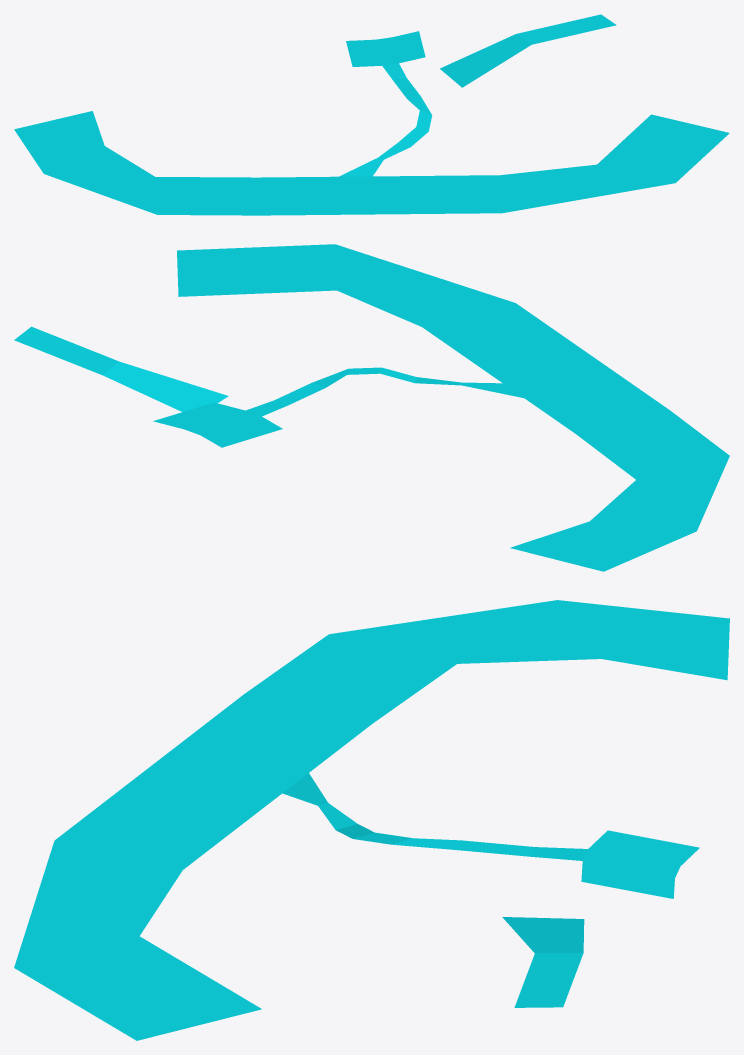
File: WATER_FOREST.fbx
The picture shows the model from 3 angles, top to bottom: view 1: azimuth 30°, elevation 25°; view 2: azimuth 150°, elevation 25°; view 3: azimuth 270°, elevation 25°; orthographic projection. The views are drawn at different scales.
Parts seen in each view (by area): view 1: BASEWATER; view 2: BASEWATER; view 3: BASEWATER.
Boxes of the visible parts, x1,y1,x2,y2 form: BASEWATER: (14,14,729,215); BASEWATER: (14,244,729,571); BASEWATER: (14,600,729,1040).
Size of the model in its own units: 357 by 13.33 by 243.
